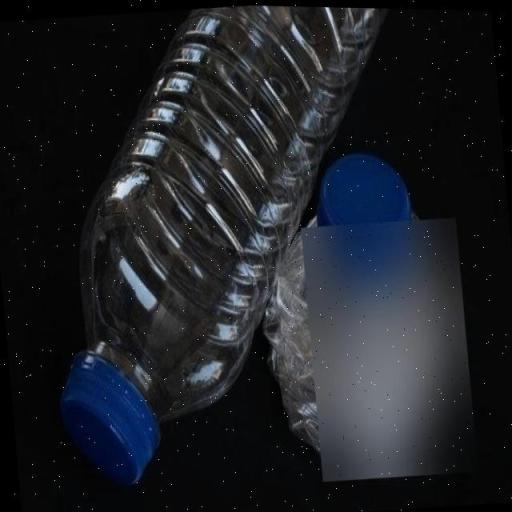plastic: (59, 4, 391, 488)
